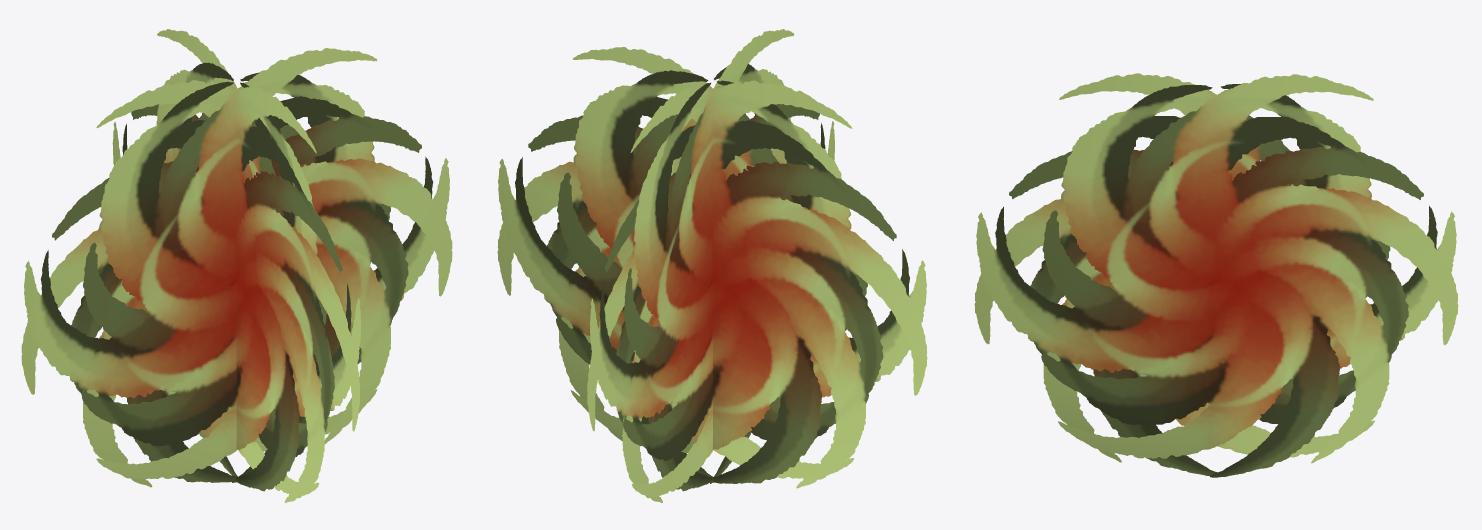
File: HP3_weed062.fbx
3 renders of one model, left to right at view 1: azimuth 30°, elevation 25°; view 2: azimuth 150°, elevation 25°; view 3: azimuth 270°, elevation 25°, orthographic. The views are drawn at different scales.
Visible parts, largest first — view 1: HP3_weed062; view 2: HP3_weed062; view 3: HP3_weed062.
Part boxes in pixels (box(x1,y1,x2,y2)): HP3_weed062: box(21, 29, 452, 502); HP3_weed062: box(497, 29, 927, 502); HP3_weed062: box(974, 73, 1458, 477).
Bounding box in the file's own units: 7.5 × 7.1 × 7.5.
